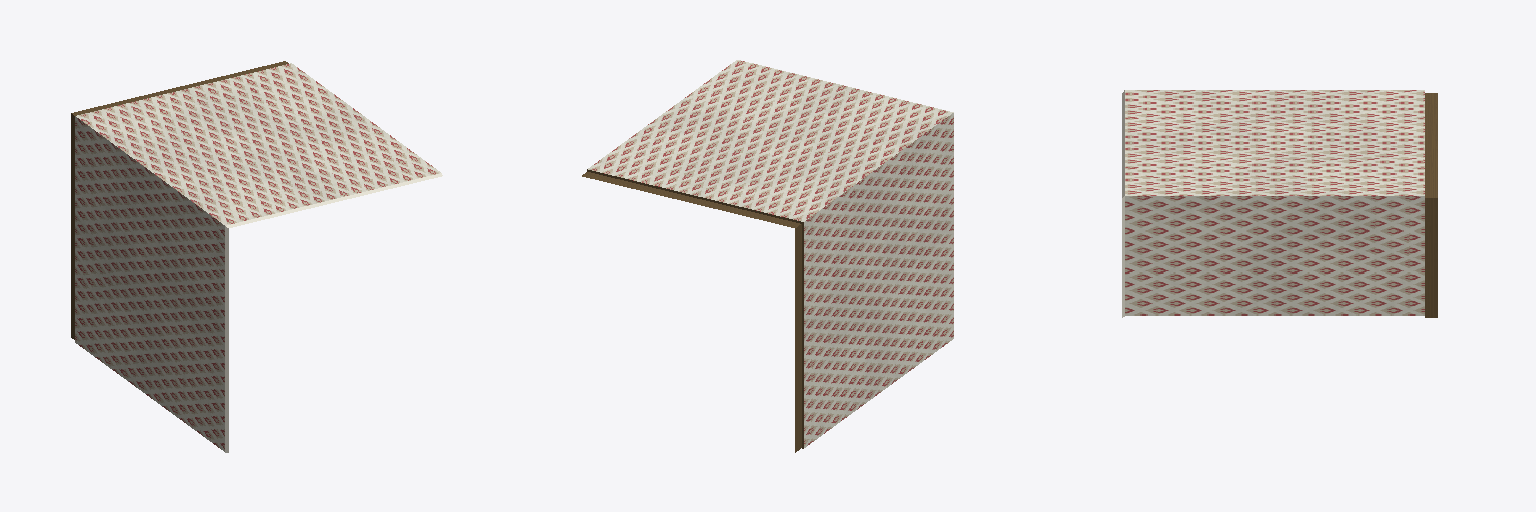
3 renders of one model, left to right at view 1: azimuth 30°, elevation 25°; view 2: azimuth 150°, elevation 25°; view 3: azimuth 270°, elevation 25°, orthographic.
Parts seen in each view (by area): view 1: Plane; view 2: Plane; view 3: Plane.
Part boxes in pixels (x1,y1,x2,y2): Plane: (71,61,442,452); Plane: (582,60,953,452); Plane: (1122,90,1437,317).
Size of the model in its own units: 2 by 2 by 2.52.
1 materials, 1 textured.